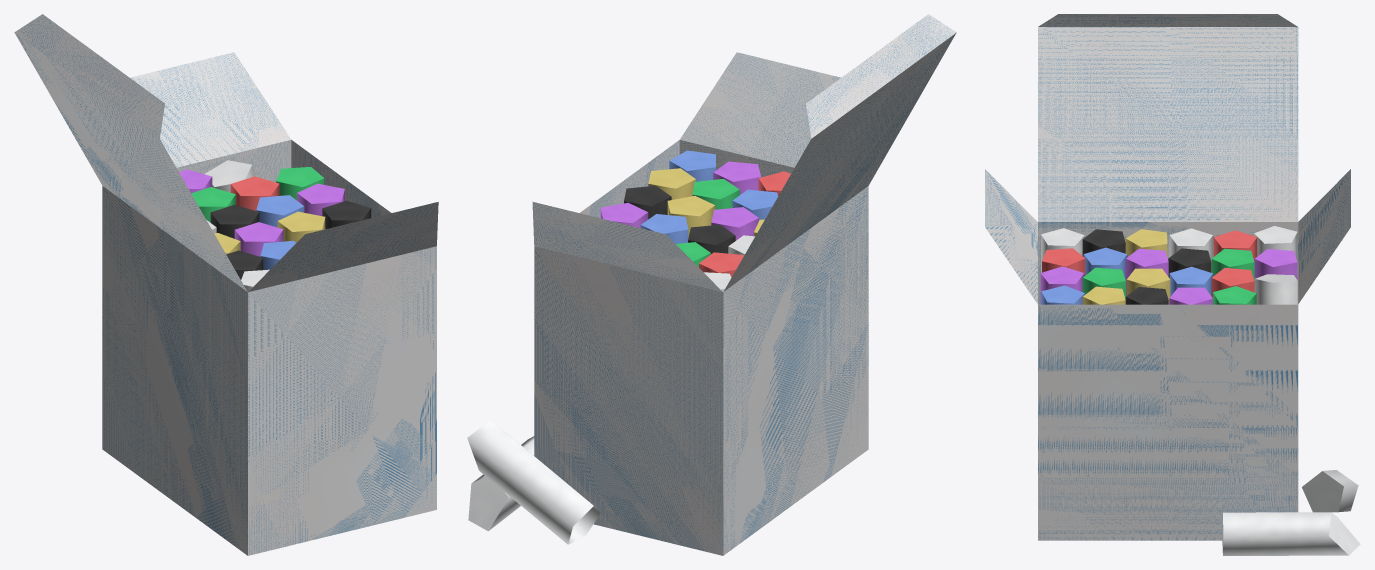
Rendered from Chalk.obj.
3 renders of one model, left to right at view 1: azimuth 30°, elevation 25°; view 2: azimuth 150°, elevation 25°; view 3: azimuth 270°, elevation 25°, orthographic. The views are drawn at different scales.
Parts seen in each view (by area): view 1: Cube.001; view 2: Cube.001; view 3: Cube.001.
Boxes of the visible parts, bbox=[...] form: Cube.001: bbox=[14, 14, 438, 555]; Cube.001: bbox=[467, 14, 956, 555]; Cube.001: bbox=[985, 14, 1360, 555].
Size of the model in its own units: 0.2581 by 0.3499 by 0.2885.
